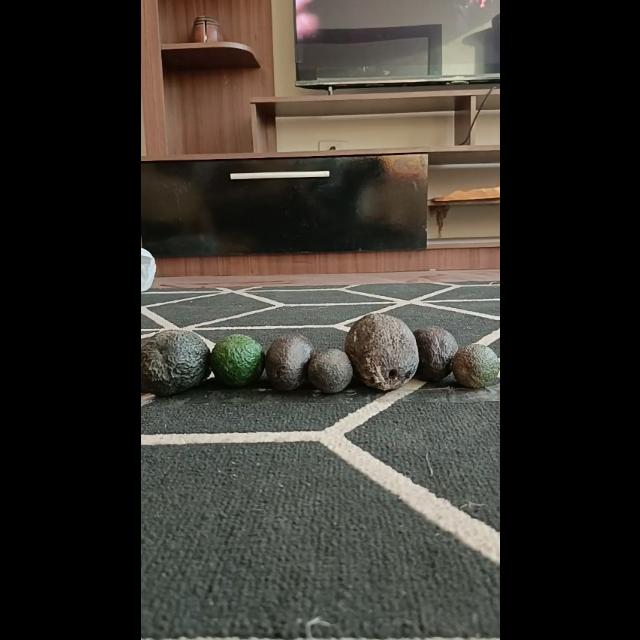Primera: (344, 312, 418, 390), (141, 329, 211, 396)
Segunda: (264, 334, 314, 391), (210, 334, 264, 386), (410, 325, 458, 381)
Tercera: (306, 348, 352, 394), (452, 343, 498, 389)
